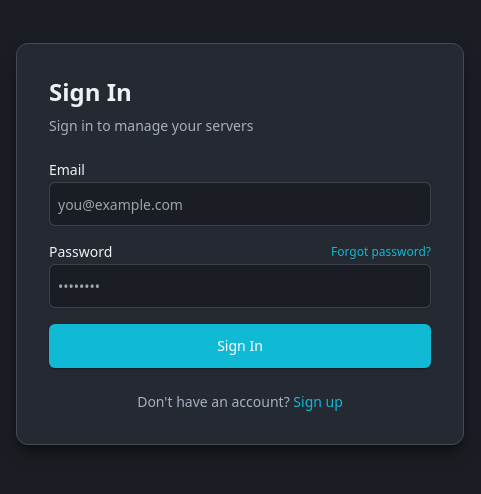
LoginPage › clears error message on new submission
The image size is (481, 494).
Note: First submission - fails
Step 1. Type "test@example.com" into the field labelled "Email" → [240, 204], box [49,182,431,226]
Step 2. Type "wrong" into the password field labelled "Password" → [240, 286], box [49,264,431,308]
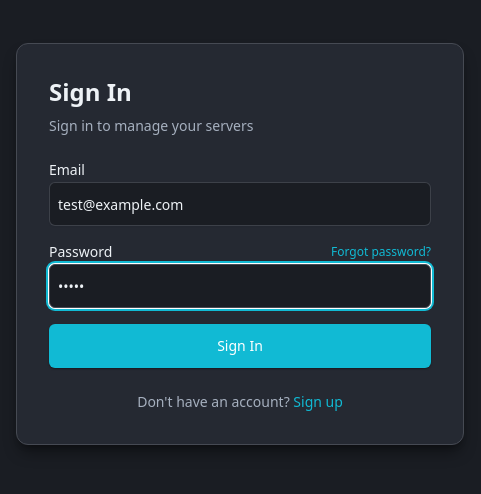
Step 3. Click the button "Sign In" → [240, 346], box [49,324,431,368]
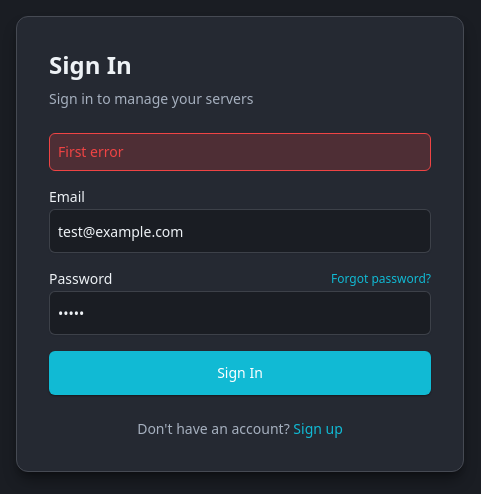
Check: the text "First error" is shown, box [49,133,431,171]
Note: Second submission - succeeds (error should clear)
Step 4. Clear the field labelled "Email" → [240, 231], box [49,209,431,253]
Step 5. Clear the password field labelled "Password" → [240, 313], box [49,291,431,335]
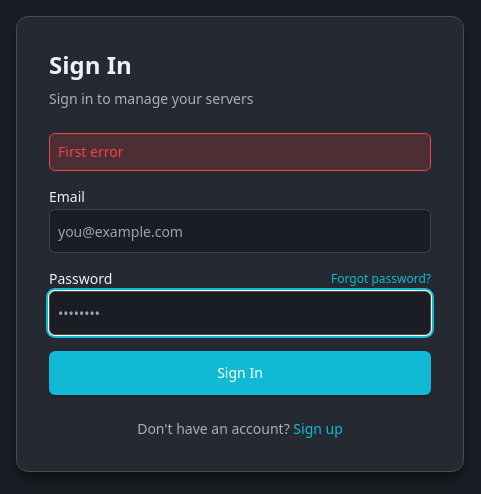
Step 6. Type "test@example.com" into the field labelled "Email" → [240, 231], box [49,209,431,253]
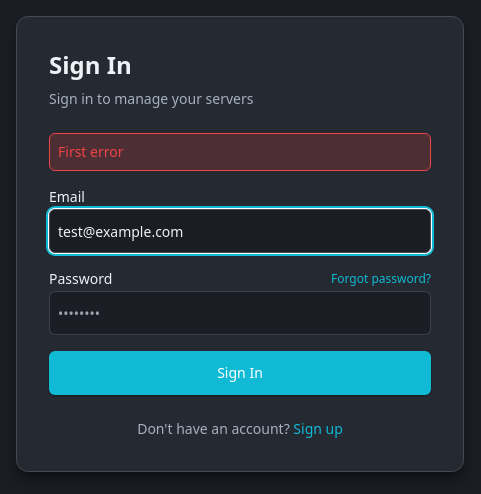
Step 7. Type "correct" into the password field labelled "Password" → [240, 313], box [49,291,431,335]
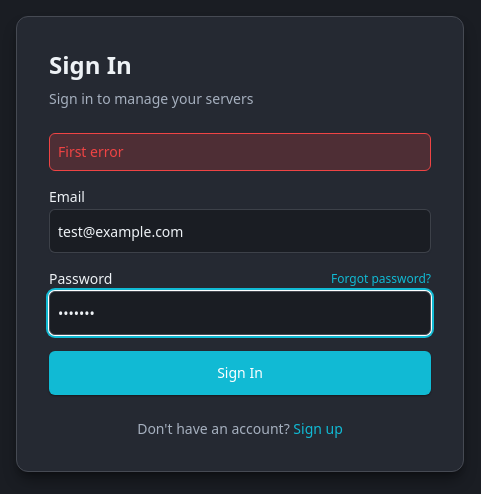
Step 8. Click the button "Sign In" → [240, 373], box [49,351,431,395]
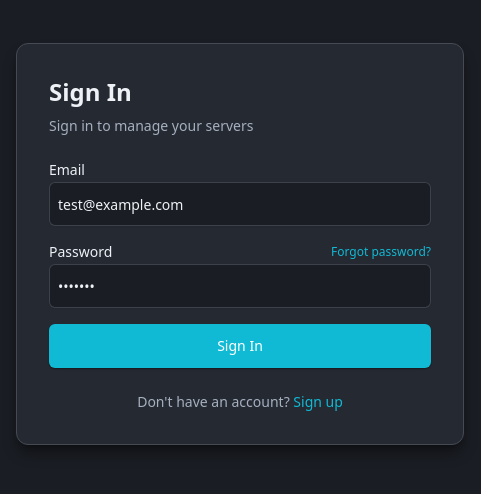
Check: the text "First error" is gone
